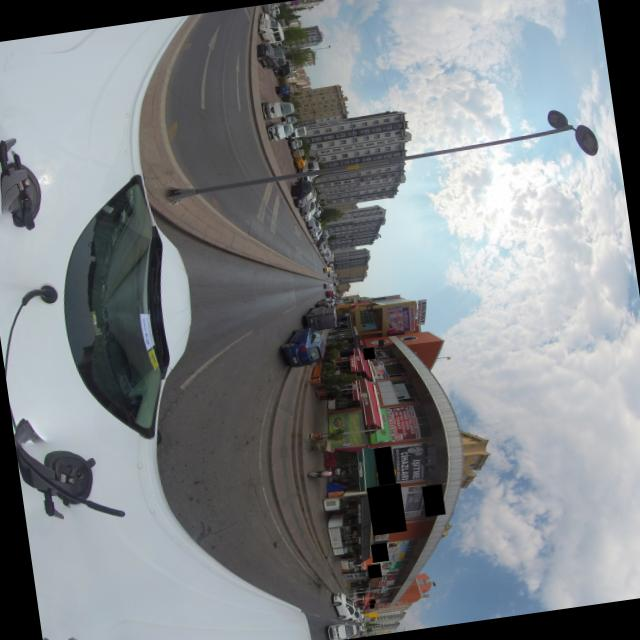SignStore: (372, 483, 399, 536), (375, 446, 393, 486), (425, 484, 441, 517), (372, 543, 386, 563), (368, 564, 379, 579), (362, 348, 374, 360), (369, 604, 373, 609), (369, 600, 374, 604)
